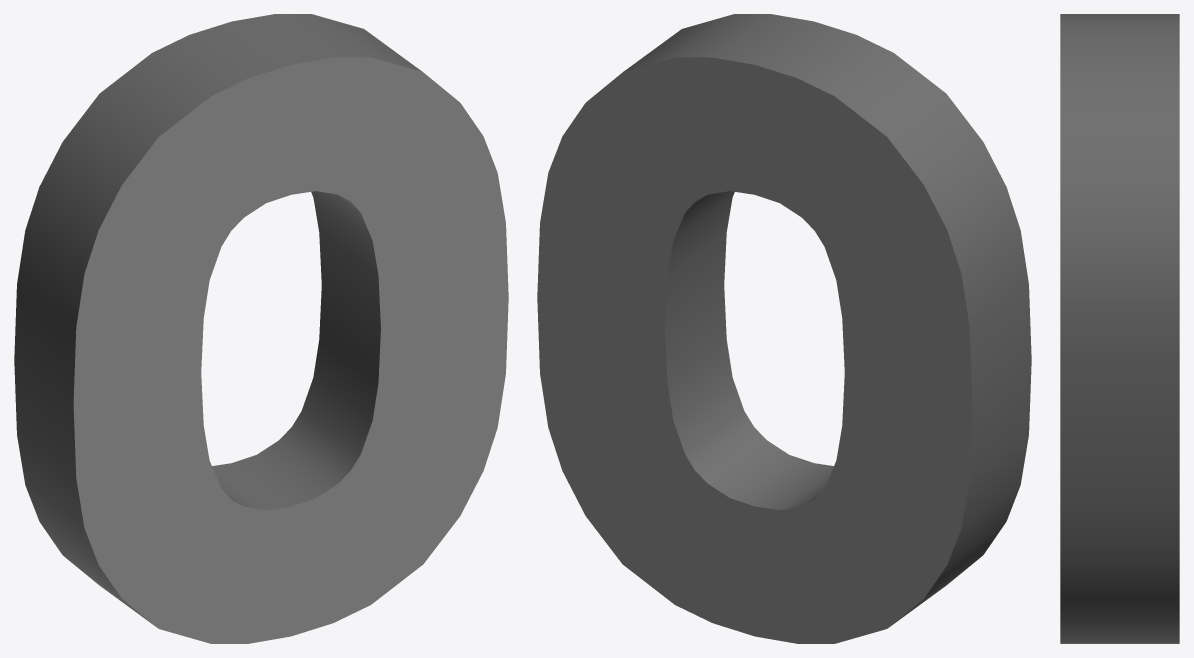
File: TXL0210001.fbx
3 renders of one model, left to right at view 1: azimuth 30°, elevation 25°; view 2: azimuth 150°, elevation 25°; view 3: azimuth 270°, elevation 25°, orthographic.
Parts seen in each view (by area): view 1: smTXL0210001; view 2: smTXL0210001; view 3: smTXL0210001.
Boxes of the visible parts, x1=… form: smTXL0210001: x1=14, y1=14, x2=508, y2=643; smTXL0210001: x1=537, y1=14, x2=1031, y2=643; smTXL0210001: x1=1060, y1=14, x2=1179, y2=643.
Size of the model in its own units: 96.29 by 121 by 22.7.
Materials: 1 (1 with a texture image).
